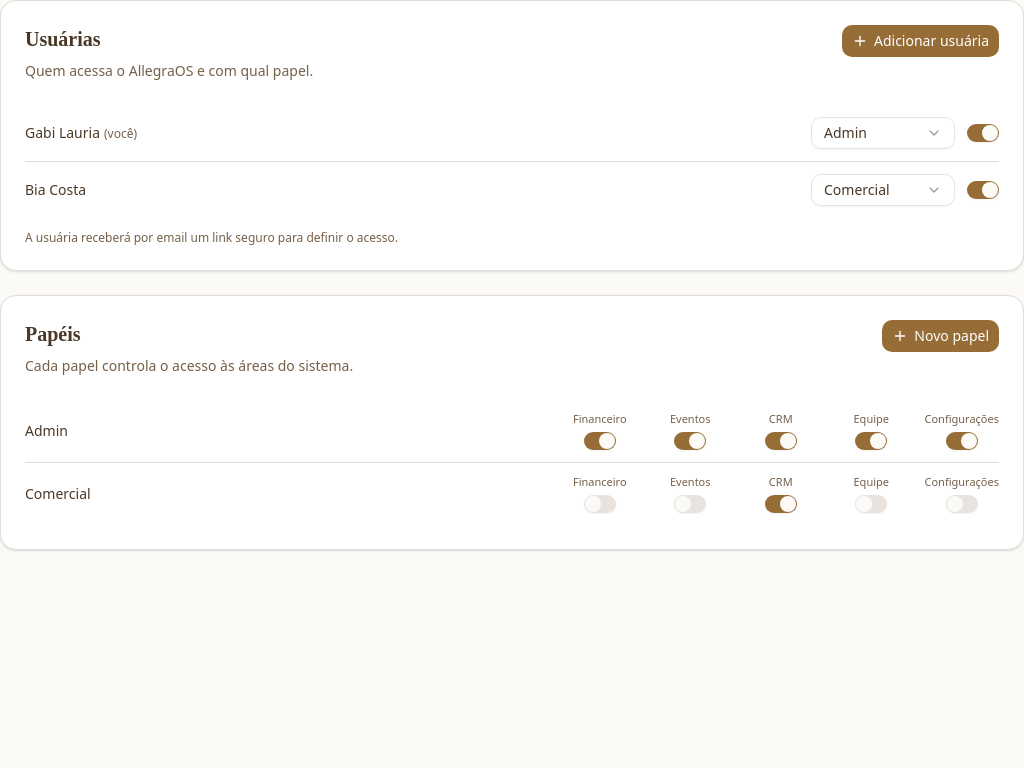
it: UsuariasTab › self-guard refuses to inactivate the signed-in profile
Click the switch named "Inativar Gabi Lauria" at x=983, y=133, box [967,124,999,142]
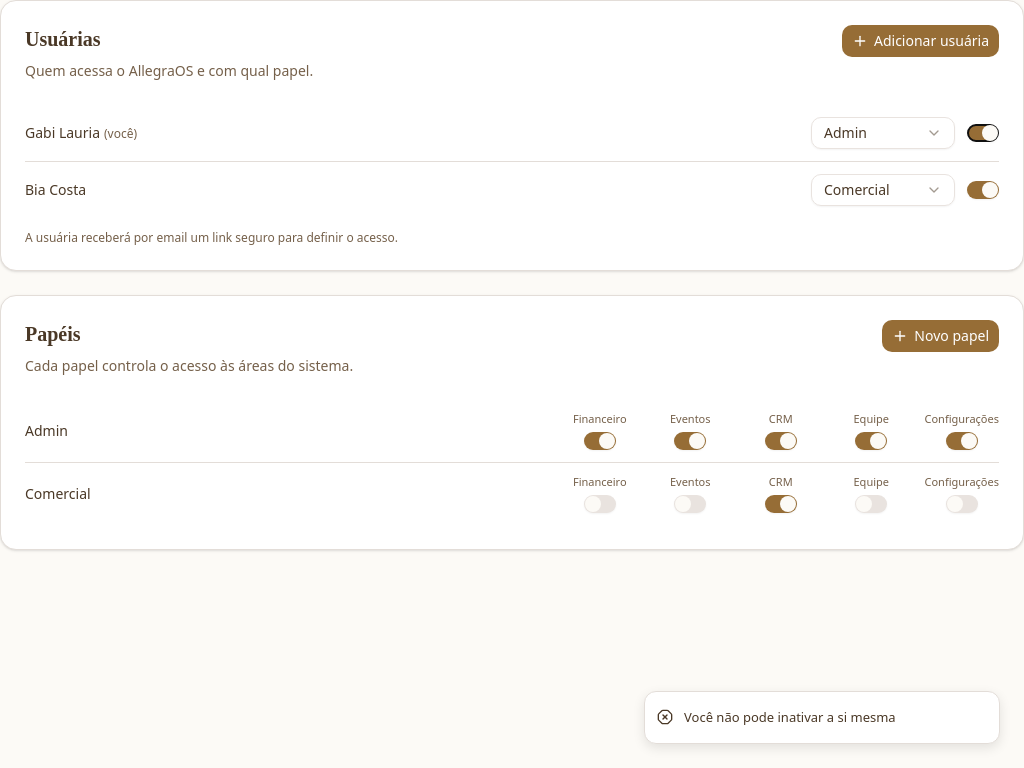
Expected: the text "Você não pode inativar a si mesma" is shown, [684,708,896,727]
